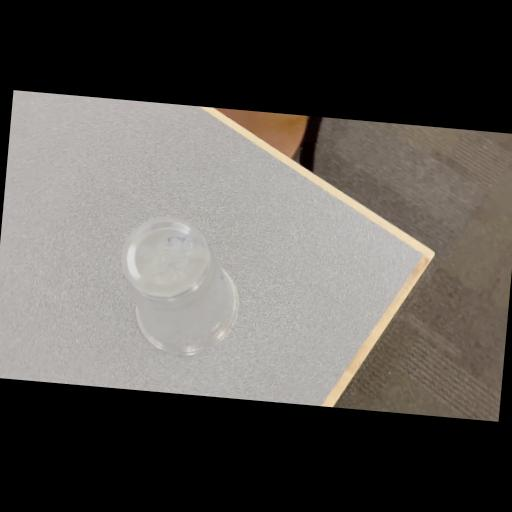lp_plastic_cup: (112, 213, 266, 368)
